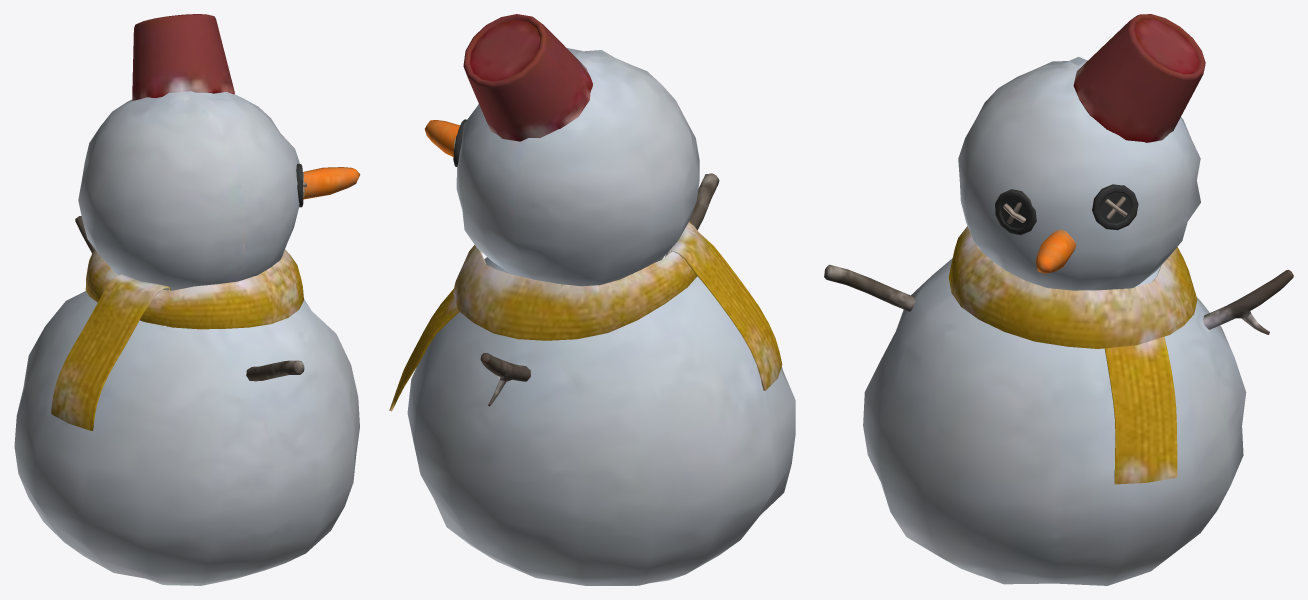
File: SM_Snowman_ec65fd.glb
The picture shows the model from 3 angles, left to right: view 1: azimuth 30°, elevation 25°; view 2: azimuth 150°, elevation 25°; view 3: azimuth 270°, elevation 25°; orthographic projection. The views are drawn at different scales.
Bounding box in the file's own units: 1.27 × 1.88 × 1.48.
Materials: 1 (1 with a texture image).
